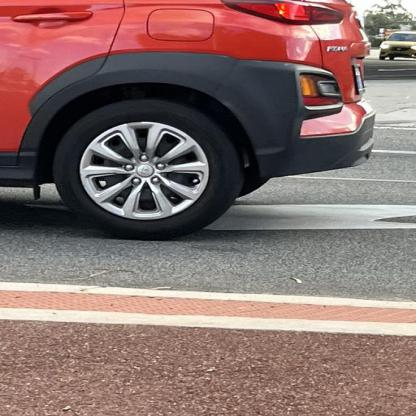Tire: (54, 98, 244, 241)
